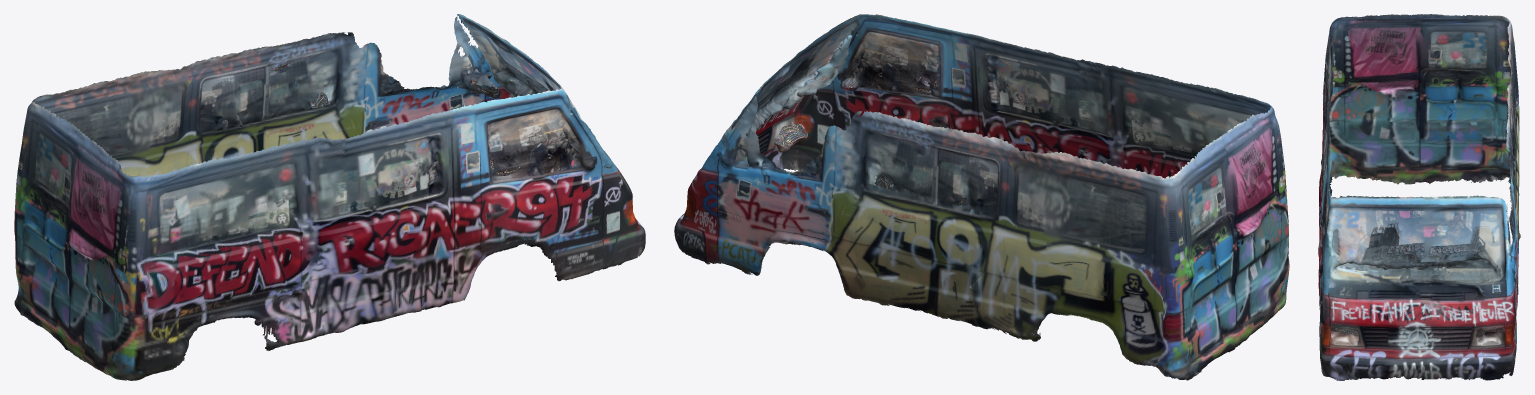
File: van-035.glb
The picture shows the model from 3 angles, left to right: view 1: azimuth 30°, elevation 25°; view 2: azimuth 150°, elevation 25°; view 3: azimuth 270°, elevation 25°; orthographic projection. The views are drawn at different scales.
Parts seen in each view (by area): view 1: No35; view 2: No35; view 3: No35.
Boxes of the visible parts, x1,y1,x2,y2 form: No35: (14, 14, 645, 380); No35: (674, 14, 1289, 380); No35: (1318, 14, 1520, 380).
Size of the model in its own units: 4.54 by 1.74 by 1.81.
Materials: 1 (1 with a texture image).
